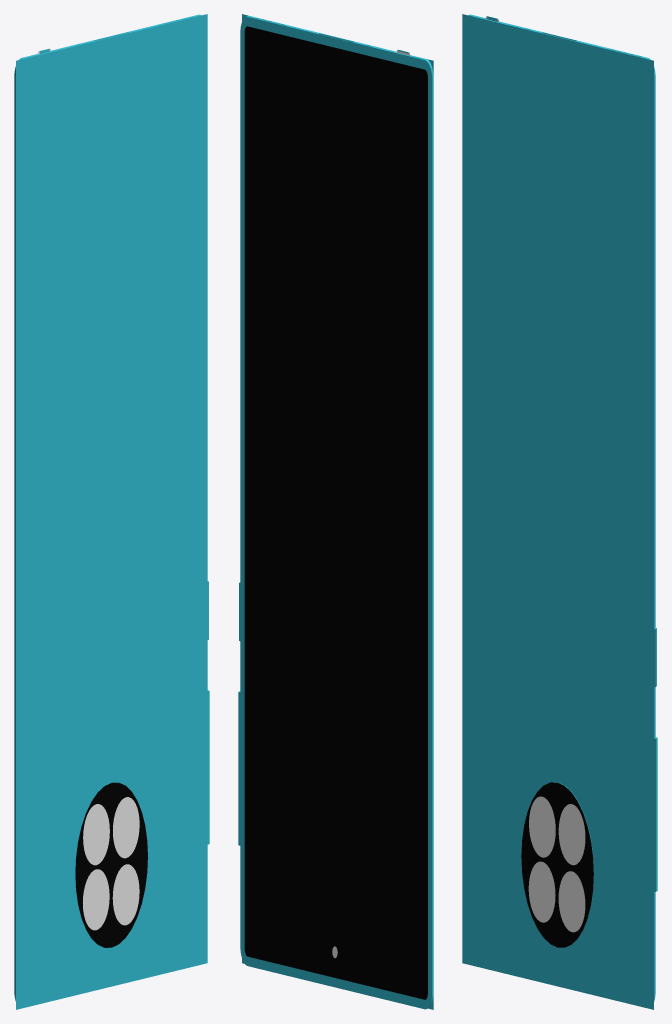
Rendered from Redmi_Not_ 14_Pro+.glb.
3 renders of one model, left to right at view 1: azimuth 30°, elevation 25°; view 2: azimuth 150°, elevation 25°; view 3: azimuth 330°, elevation 25°, orthographic.
Parts seen in each view (by area): view 1: Cube; view 2: Cube; view 3: Cube.
Boxes of the visible parts, <box> form: Cube: <box>14,14,209,1009</box>; Cube: <box>238,14,433,1009</box>; Cube: <box>462,14,657,1009</box>.
Size of the model in its own units: 0.0113 by 0.053 by 0.000209.
